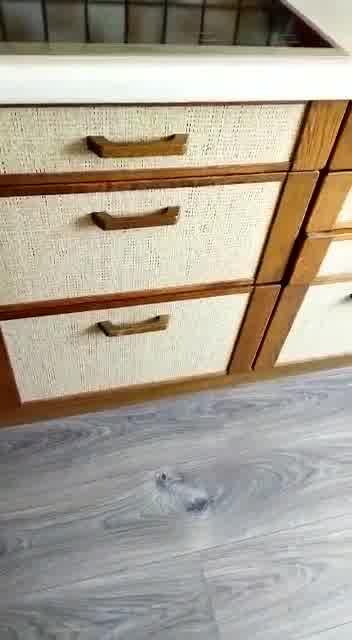cabinet_door: (0, 184, 281, 291), (0, 289, 263, 394), (0, 103, 318, 182)
handle: (78, 120, 194, 162), (85, 199, 187, 234), (91, 308, 176, 340)
